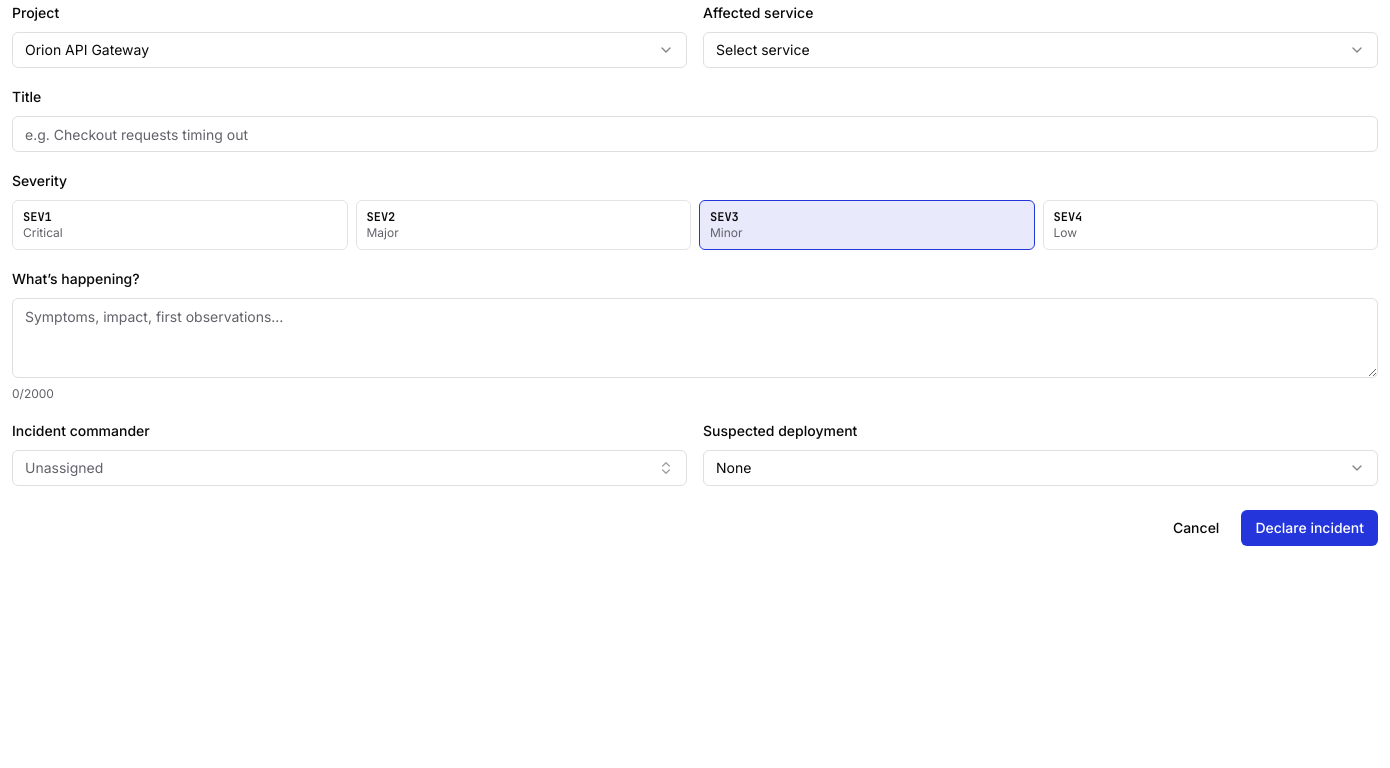
Test case: CreateIncidentForm › maps server-side validation errors onto fields
Type "Token endpoint returns 502" into the field labelled "Title" at (695, 134), box [12,116,1378,152]
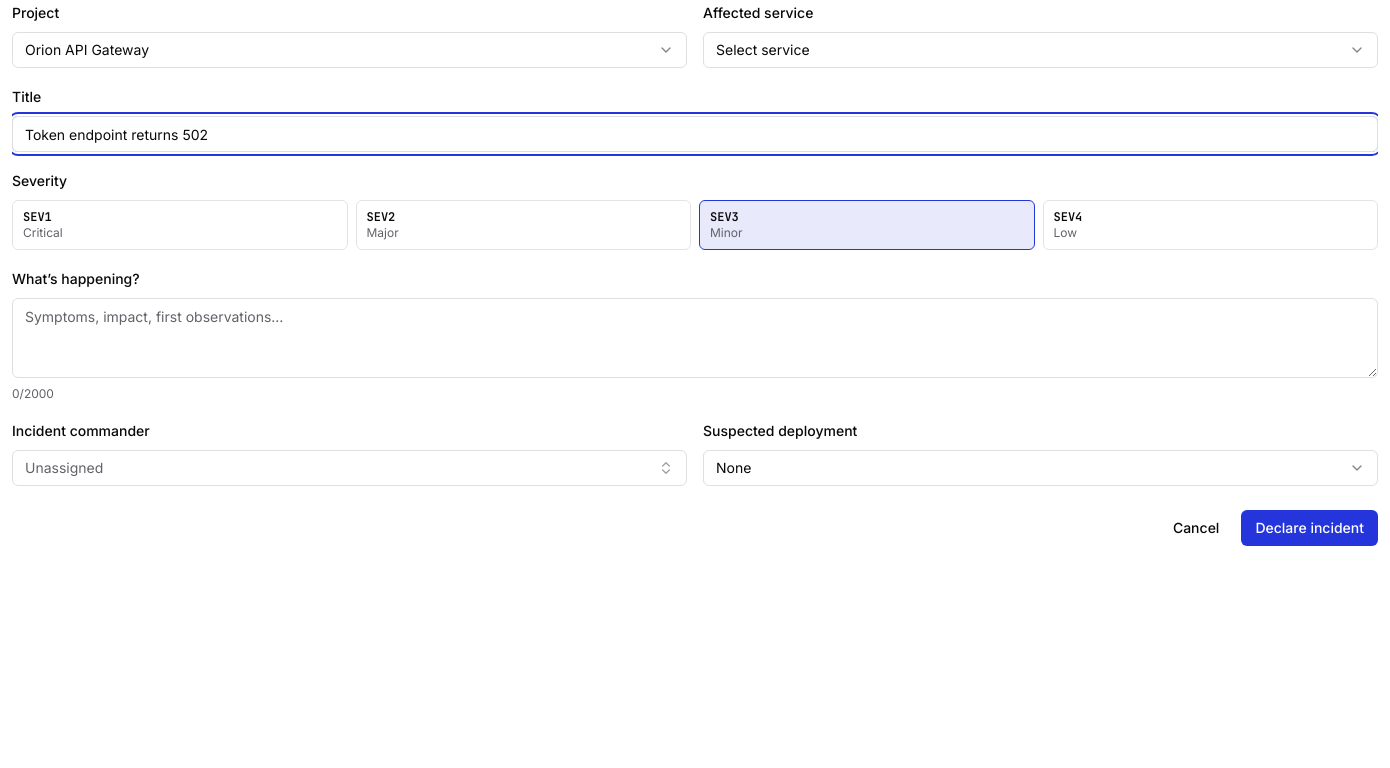
Type "Clients receive 502s from POST /v1/token since 07:20." into the text box labelled "What’s happening?" at (695, 338), box [12,298,1378,378]
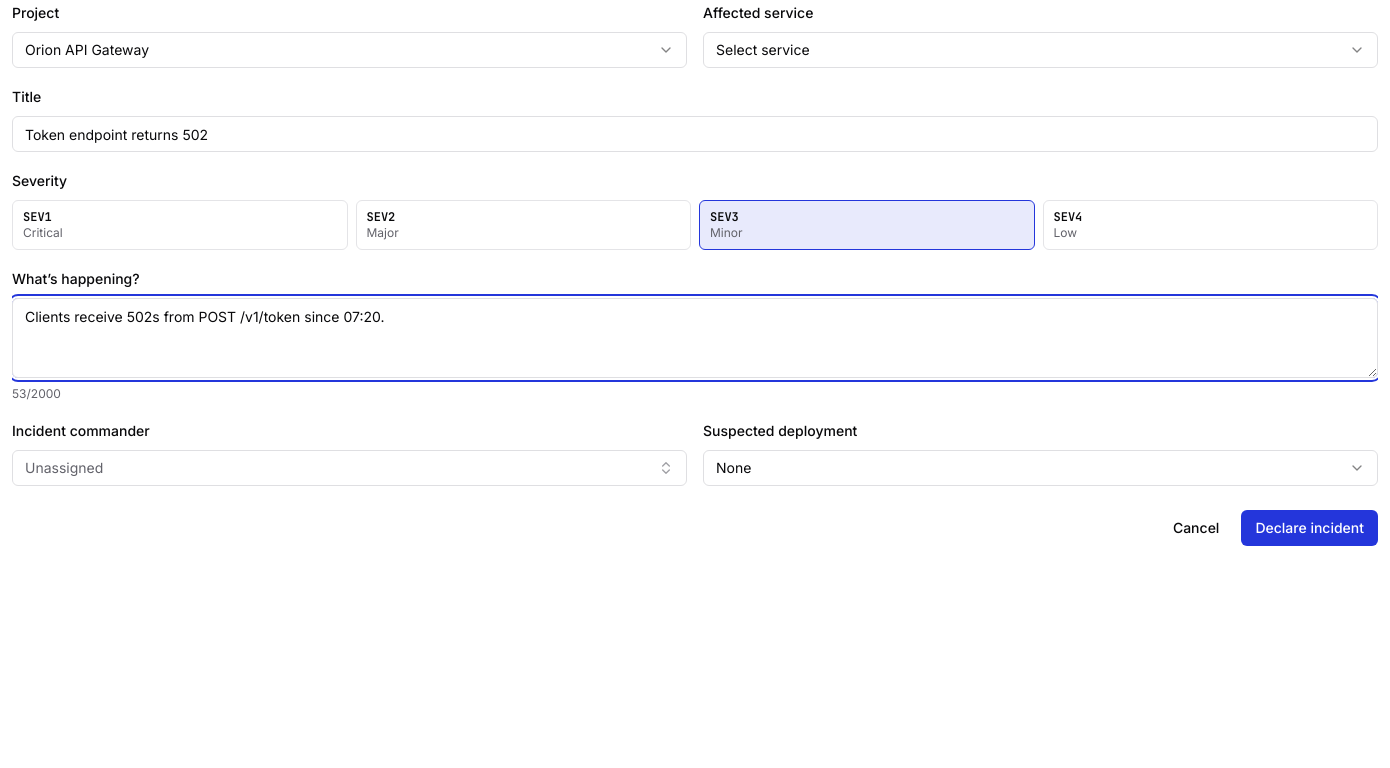
Click the dropdown named "Affected service" at (763, 50), box [703,32,1378,68]
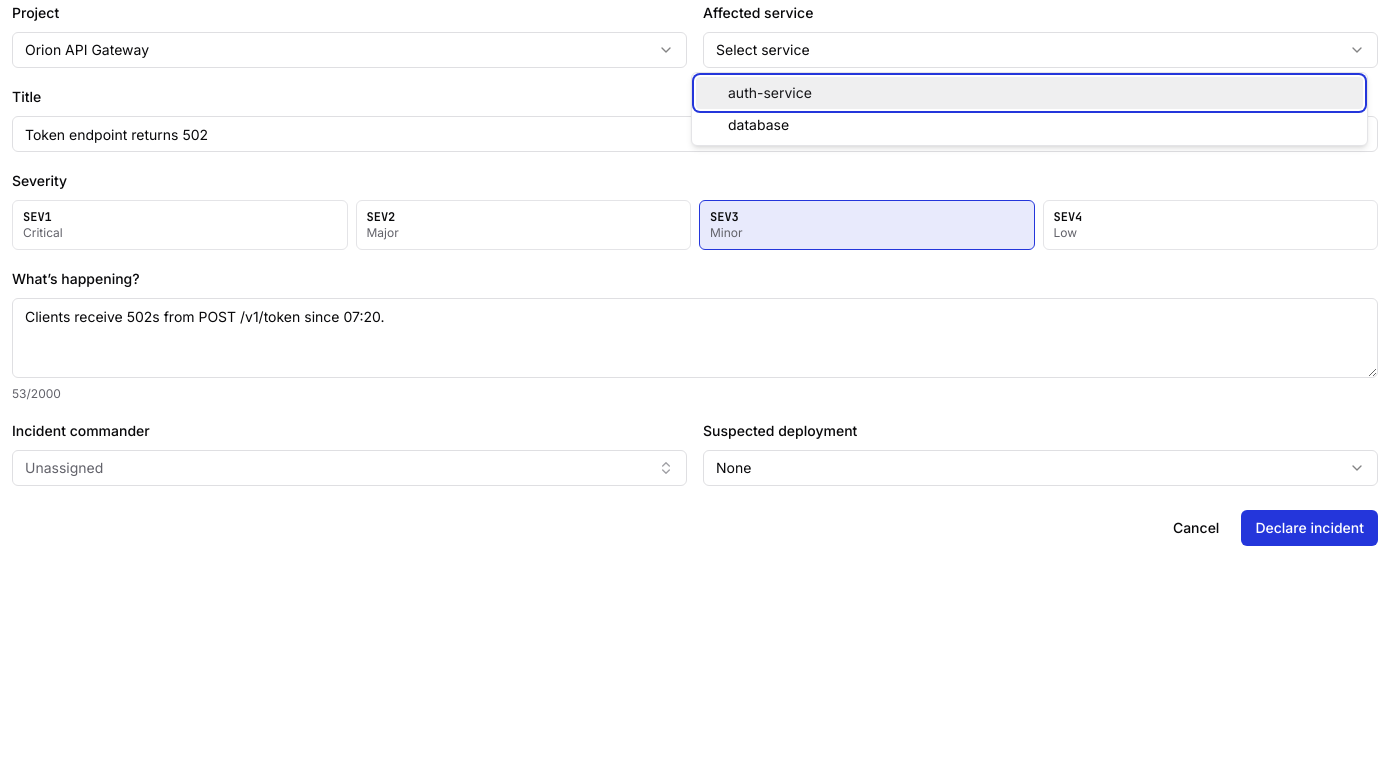
Click the option "database" at (759, 124), box [728,116,789,133]
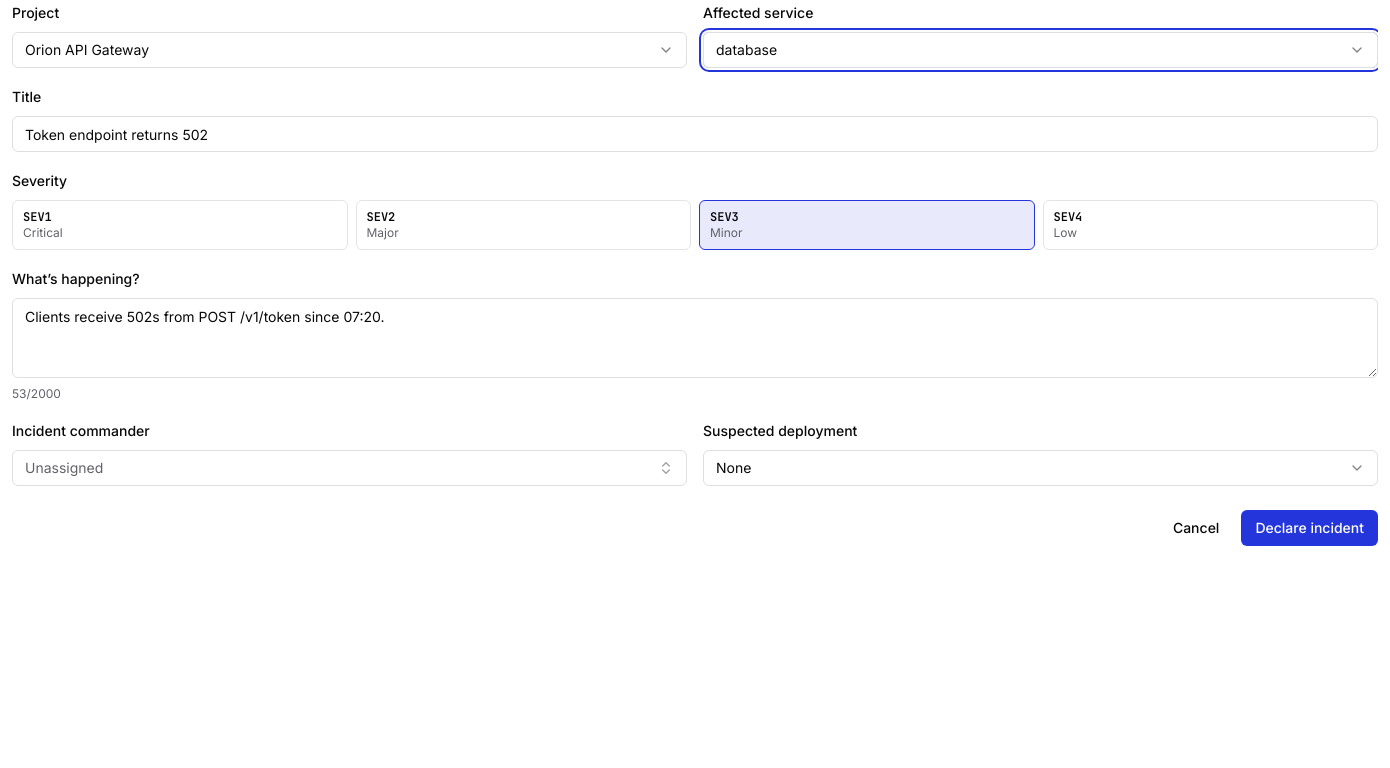
Click the button "Declare incident" at (1310, 528), box [1241,510,1378,546]
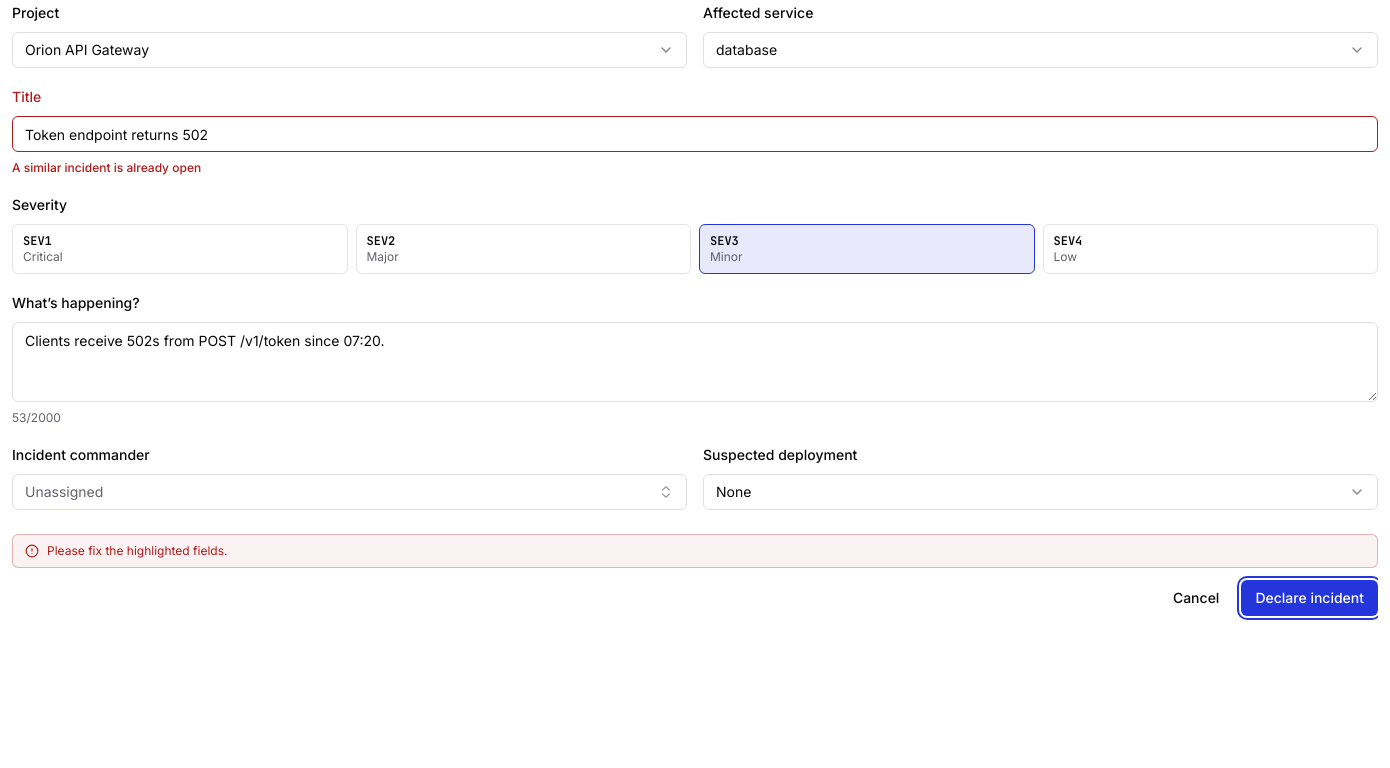
expect the text "A similar incident is already open" is shown: met, box [12,160,201,175]
expect the text "Please fix the highlighted fields." is shown: met, box [12,534,1378,568]
